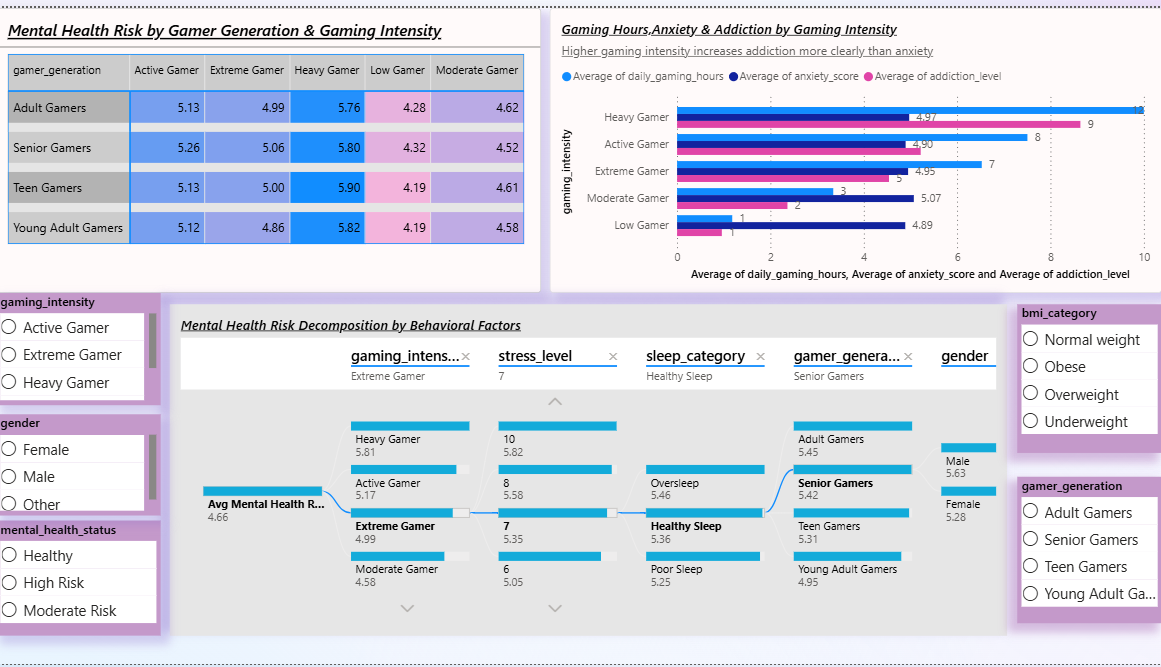

The dashboard page shown, as its layout file describes it:
{"tool":"powerbi","page":{"name":"Page 2","canvas":[1280,720],"ordinal":1},"visuals":[{"type":"pivotTable","title":"Mental Health Risk by Gamer Generation & Gaming Intensity","fields":{"Rows":["gaming_mental_health gaming_data.gamer_generation"],"Columns":["gaming_mental_health gaming_data.gaming_intensity"],"Values":["gaming_mental_health gaming_data.Avg Mental Health Risk"]},"box":[0,0,598.3,312.9],"z":0},{"type":"clusteredBarChart","title":"Gaming Hours,Anxiety & Addiction by Gaming Intensity","fields":{"Y":["Avg(gaming_mental_health gaming_data.daily_gaming_hours)","Avg(gaming_mental_health gaming_data.anxiety_score)","Avg(gaming_mental_health gaming_data.addiction_level)"],"Category":["gaming_mental_health gaming_data.gaming_intensity"]},"box":[607.9,0,672.4,312.9],"z":1000},{"type":"decompositionTreeVisual","title":"Mental Health Risk Decomposition by Behavioral Factors","fields":{"Analyze":["gaming_mental_health gaming_data.Avg Mental Health Risk"],"ExplainBy":["gaming_mental_health gaming_data.gaming_intensity","gaming_mental_health gaming_data.stress_level","gaming_mental_health gaming_data.sleep_category","gaming_mental_health gaming_data.gamer_generation","gaming_mental_health gaming_data.gender"]},"box":[190.7,325.2,919.4,363.6],"z":2000},{"type":"listSlicer","fields":{"Values":["gaming_mental_health gaming_data.gaming_intensity"]},"box":[0,312.9,181.1,123.5],"z":3000},{"type":"listSlicer","fields":{"Values":["gaming_mental_health gaming_data.mental_health_status"]},"box":[0,562.6,181.1,126.2],"z":4000},{"type":"listSlicer","fields":{"Values":["gaming_mental_health gaming_data.gender"]},"box":[0,446,181.1,111.1],"z":5000},{"type":"listSlicer","fields":{"Values":["gaming_mental_health gaming_data.gamer_generation"]},"box":[1121.1,514.6,159.2,160.5],"z":6000},{"type":"listSlicer","fields":{"Values":["gaming_mental_health gaming_data.bmi_category"]},"box":[1121.1,325.2,159.2,163.3],"z":7000}]}

Visuals, with their boxes in screenshot pixels (x1, y1, x2, y2), scaled from the page's 1280x720 canvas onto the 1161x667 screenshot:
"Mental Health Risk by Gamer Generation & Gaming Intensity" pivotTable: 0:0:543:290
"Gaming Hours,Anxiety & Addiction by Gaming Intensity" clusteredBarChart: 551:0:1160:290
"Mental Health Risk Decomposition by Behavioral Factors" decompositionTreeVisual: 173:301:1007:638
listSlicer - gaming_mental_health gaming_data.gaming_intensity: 0:290:164:404
listSlicer - gaming_mental_health gaming_data.mental_health_status: 0:521:164:638
listSlicer - gaming_mental_health gaming_data.gender: 0:413:164:516
listSlicer - gaming_mental_health gaming_data.gamer_generation: 1017:477:1160:625
listSlicer - gaming_mental_health gaming_data.bmi_category: 1017:301:1160:453
